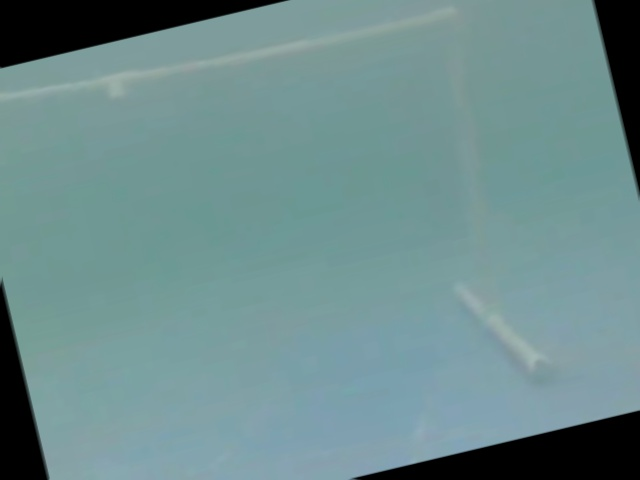gate: (7, 0, 573, 393)
